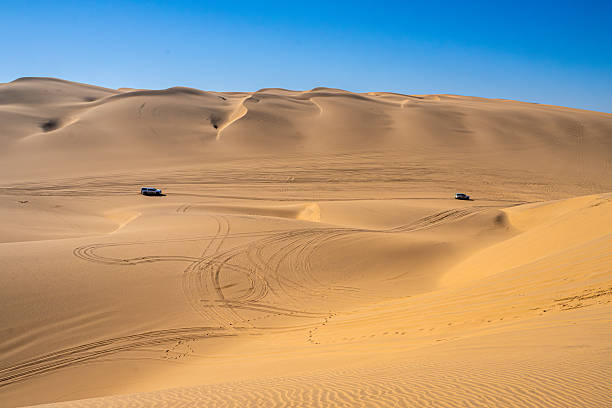vehicle_track: (0, 208, 480, 385), (0, 326, 236, 386)
